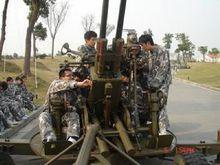MIL_SPG: (31, 0, 177, 164)
